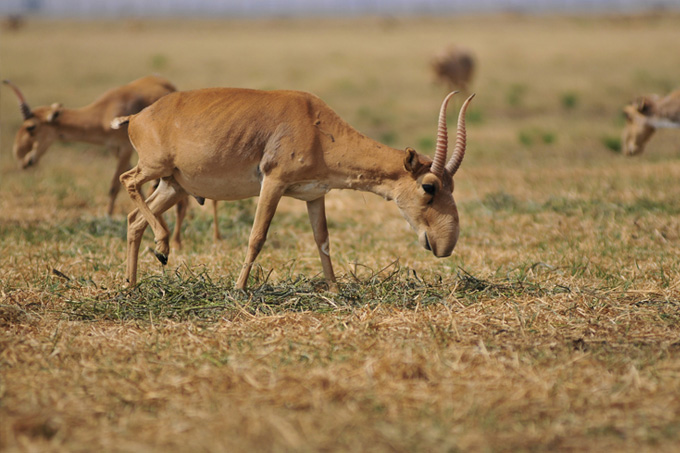saiga: (112, 88, 475, 302)
